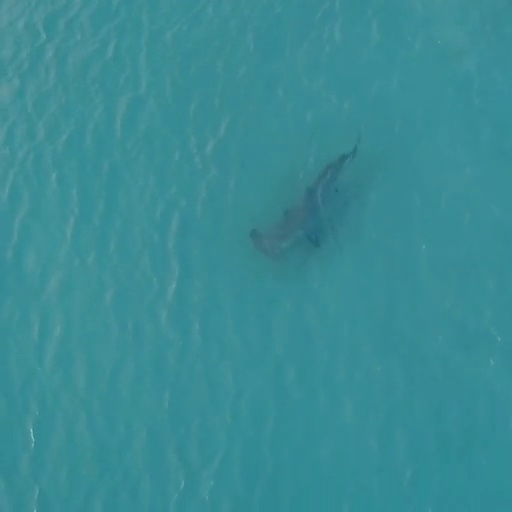shark: (246, 129, 367, 265)
